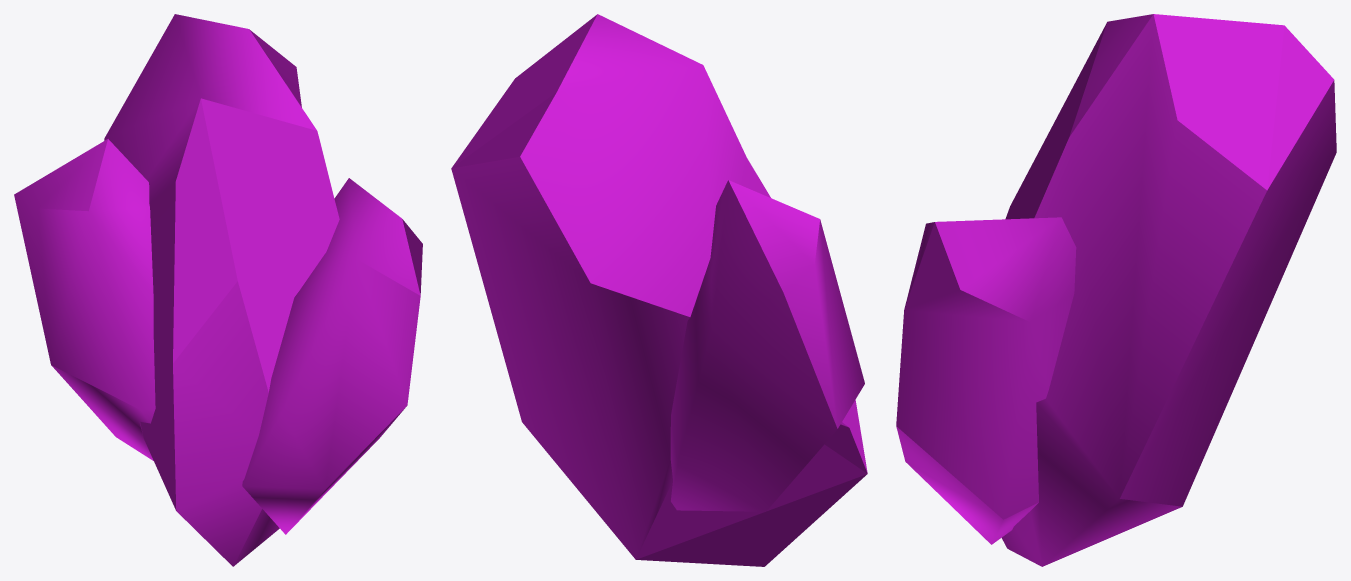
File: Resource.fbx
3 renders of one model, left to right at view 1: azimuth 30°, elevation 25°; view 2: azimuth 150°, elevation 25°; view 3: azimuth 270°, elevation 25°, orthographic. The views are drawn at different scales.
Visible parts, largest first — view 1: Cube.078; view 2: Cube.078; view 3: Cube.078.
Boxes of the visible parts, x1,y1,x2,y2 form: Cube.078: (14, 14, 422, 566); Cube.078: (451, 14, 867, 566); Cube.078: (896, 14, 1336, 566).
Bounding box in the file's own units: 1.01 × 1.53 × 1.05.
